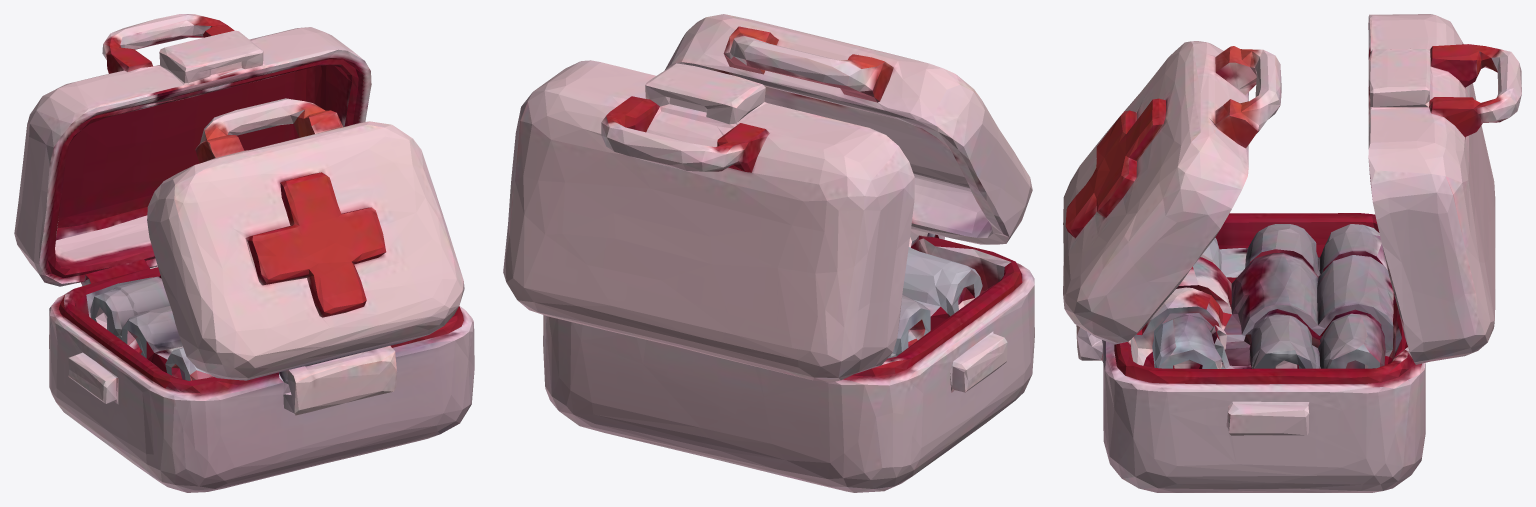
File: first_aid.glb
The picture shows the model from 3 angles, left to right: view 1: azimuth 30°, elevation 25°; view 2: azimuth 150°, elevation 25°; view 3: azimuth 270°, elevation 25°; orthographic projection. The views are drawn at different scales.
Visible parts, largest first — view 1: tmpbf4a2xlg.ply; view 2: tmpbf4a2xlg.ply; view 3: tmpbf4a2xlg.ply.
Boxes of the visible parts, x1,y1,x2,y2 form: tmpbf4a2xlg.ply: [14, 14, 474, 492]; tmpbf4a2xlg.ply: [503, 14, 1034, 492]; tmpbf4a2xlg.ply: [1063, 14, 1521, 492].
Bounding box in the file's own units: 1.93 × 1.74 × 2.
Materials: 1 (1 with a texture image).
